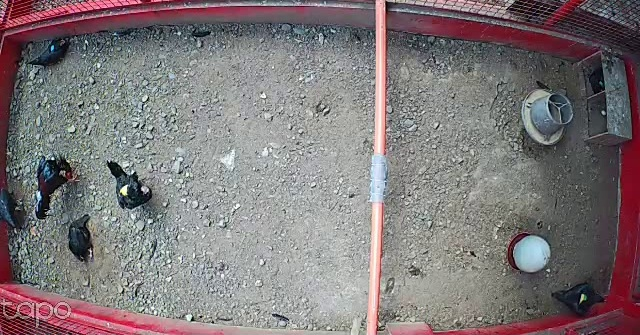Chicken: (106, 158, 156, 210), (549, 278, 611, 318), (65, 213, 97, 267), (0, 183, 30, 239), (25, 37, 69, 70)
Rooster: (34, 153, 82, 222)
Saddle_Color_Blue: (50, 45, 55, 51)
Saddle_Color_Yellow: (118, 184, 131, 198)
Saddle_Color_YellowGreen: (578, 294, 590, 305)
